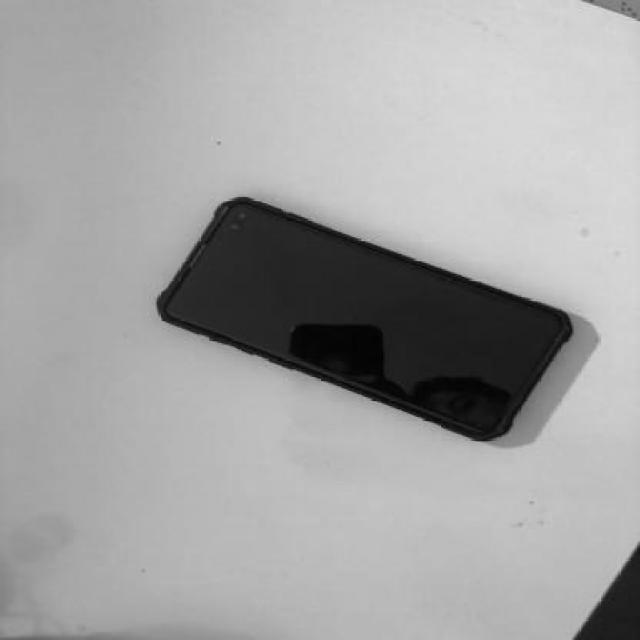fake: (154, 196, 574, 442)
